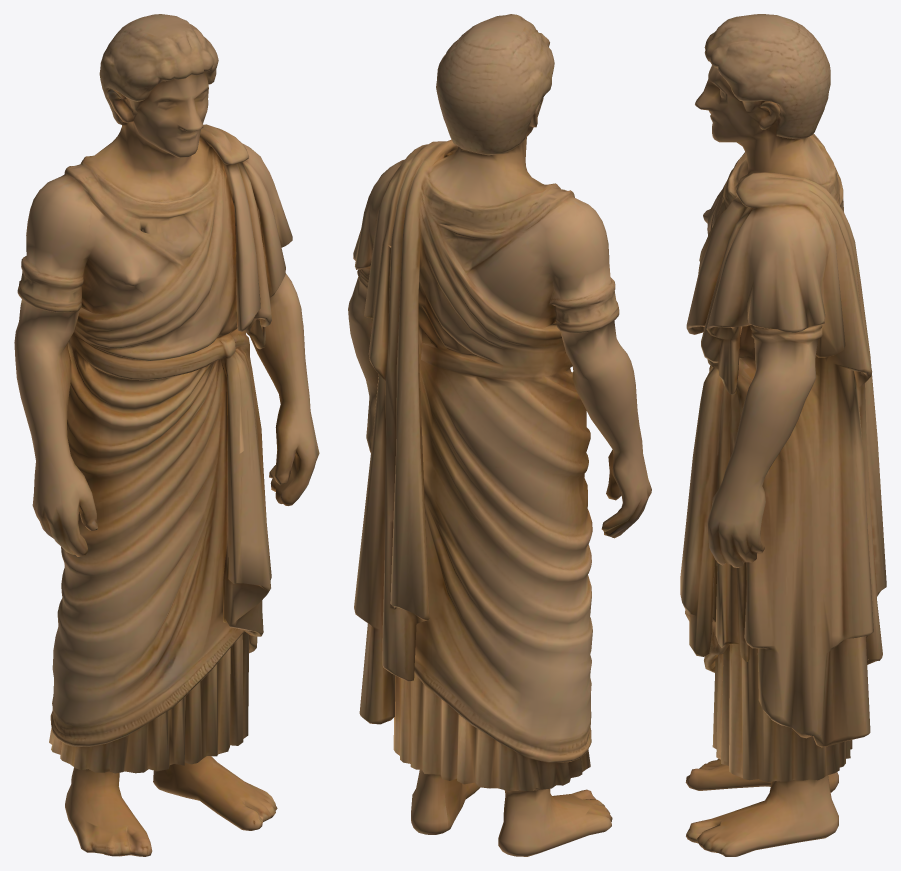
The model's file is ancient_52402af6_v3.glb.
3 views of the same model, side by side, from view 1: azimuth 30°, elevation 25°; view 2: azimuth 150°, elevation 25°; view 3: azimuth 270°, elevation 25° (orthographic).
Visible parts, largest first — view 1: material; view 2: material; view 3: material.
Part boxes in pixels (<box>): material: <box>14,14,319,856</box>; material: <box>348,14,651,856</box>; material: <box>680,14,886,856</box>.
Size of the model in its own units: 0.6893 by 1.9 by 0.4472.
1 material, 1 textured.
